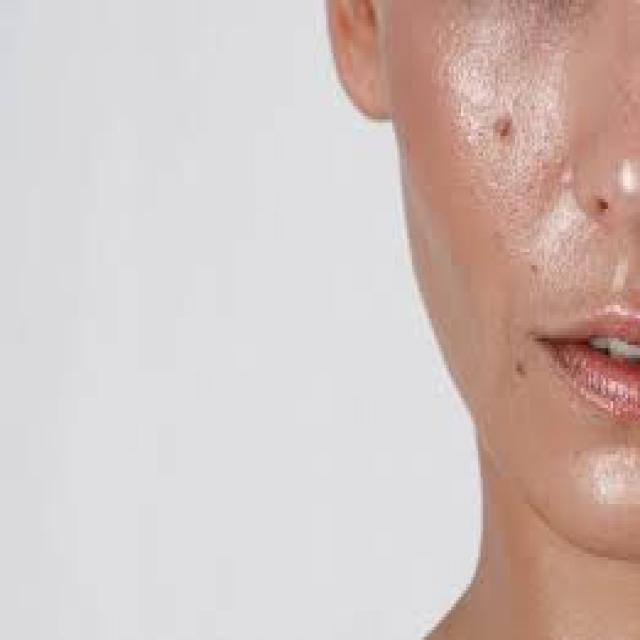Acne: (487, 52, 532, 188)
Oily-Skin: (405, 36, 585, 580)
